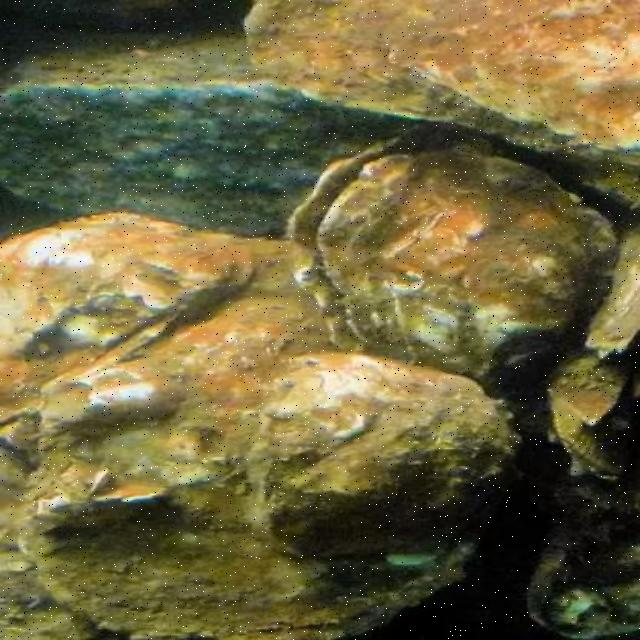Oyster-Closed: (21, 239, 513, 640), (245, 0, 640, 162), (253, 353, 524, 560), (0, 212, 259, 424), (553, 403, 636, 481), (552, 354, 633, 425)
Oyster-Open: (287, 137, 614, 432)
